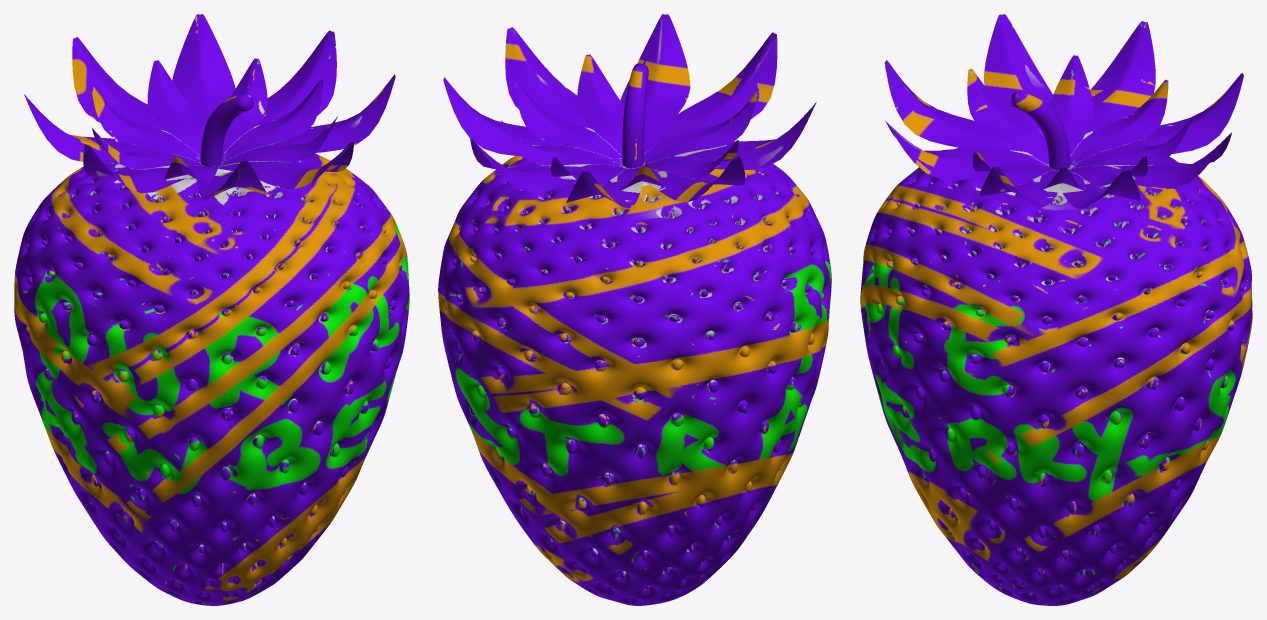
The model's file is asset.glb.
The picture shows the model from 3 angles, left to right: view 1: azimuth 30°, elevation 25°; view 2: azimuth 150°, elevation 25°; view 3: azimuth 270°, elevation 25°; orthographic projection.
Parts seen in each view (by area): view 1: strawberry; view 2: strawberry; view 3: strawberry.
Boxes of the visible parts, left/top/right/bottom form: strawberry: left=14, top=14, right=409, bottom=605; strawberry: left=438, top=14, right=831, bottom=605; strawberry: left=860, top=14, right=1252, bottom=605.
Size of the model in its own units: 39.5 by 57.09 by 39.49.
1 material, 1 textured.
